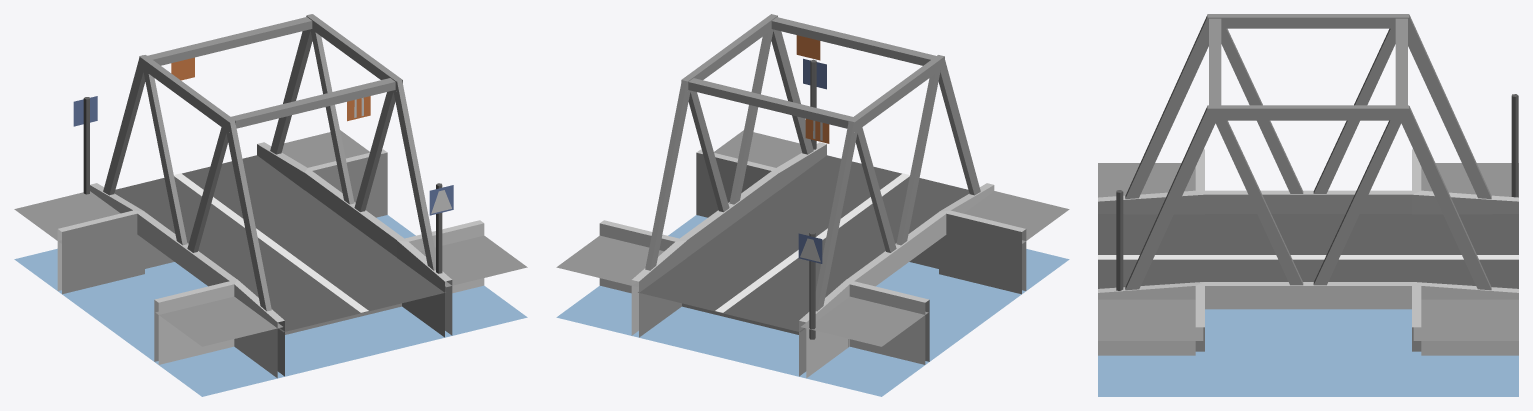
File: road_tile_bridge_1x1_003.glb
The picture shows the model from 3 angles, left to right: view 1: azimuth 30°, elevation 25°; view 2: azimuth 150°, elevation 25°; view 3: azimuth 270°, elevation 25°; orthographic projection. The views are drawn at different scales.
Parts seen in each view (by area): view 1: road_tile_bridge_1x1_003; view 2: road_tile_bridge_1x1_003; view 3: road_tile_bridge_1x1_003.
Part boxes in pixels (x1,y1,x2,y2): road_tile_bridge_1x1_003: (14, 14, 527, 396); road_tile_bridge_1x1_003: (556, 14, 1069, 396); road_tile_bridge_1x1_003: (1098, 14, 1518, 396).
Bounding box in the file's own units: 8 × 5.17 × 8.
Materials: 1 (1 with a texture image).
